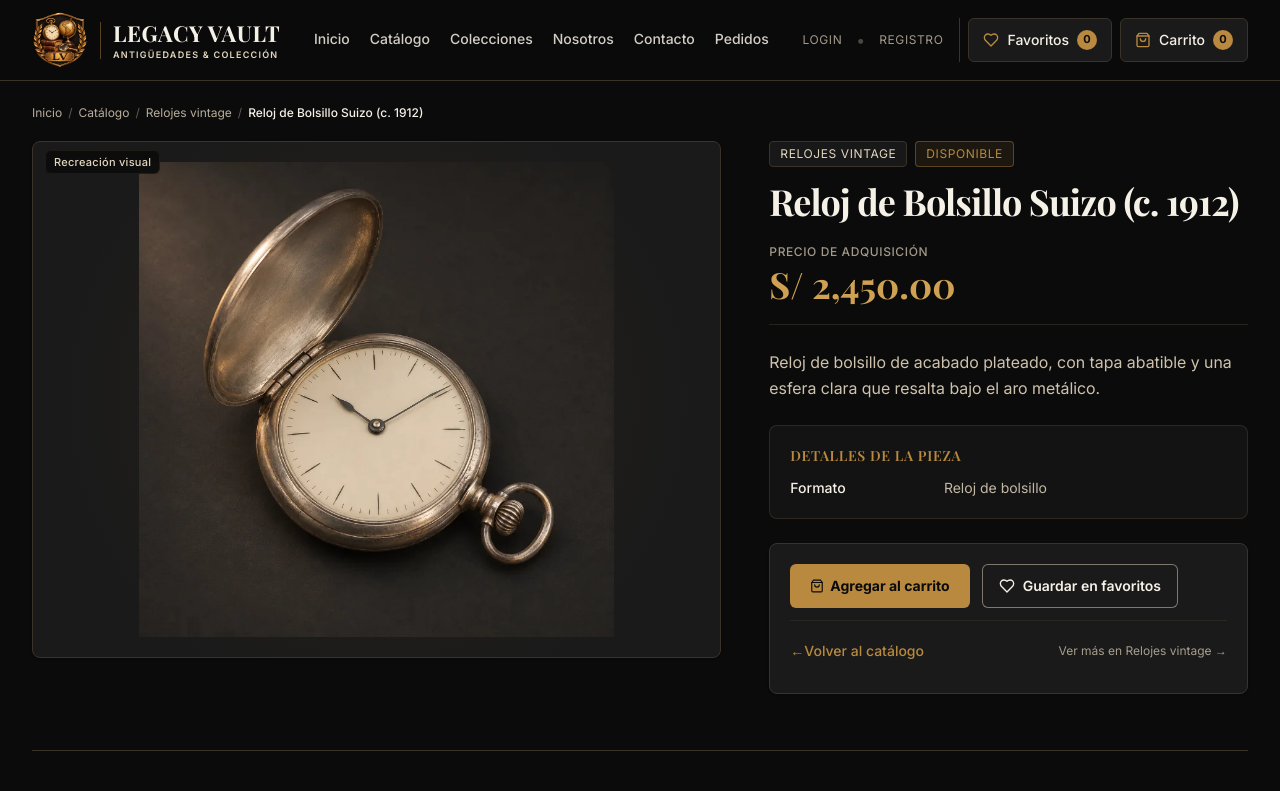
Ficha de producto (ProductPage) › presenta una pieza disponible con jerarquía visual completa, carrito, favoritos y relacionados
Expected: the heading "Reloj de Bolsillo Suizo (c. 1912)" is shown, top-left (769, 179), bottom-right (1248, 224)
Expected: the text "Relojes vintage" in the row of "Recreación visual" is shown, top-left (780, 146), bottom-right (896, 161)
What coordinates should you click on to do the following:
click the button with aria-label "Agregar al carrito: Reloj de Bolsillo Suizo"
I would click on:
 (880, 586)
Its box is top-left (790, 564), bottom-right (970, 608).
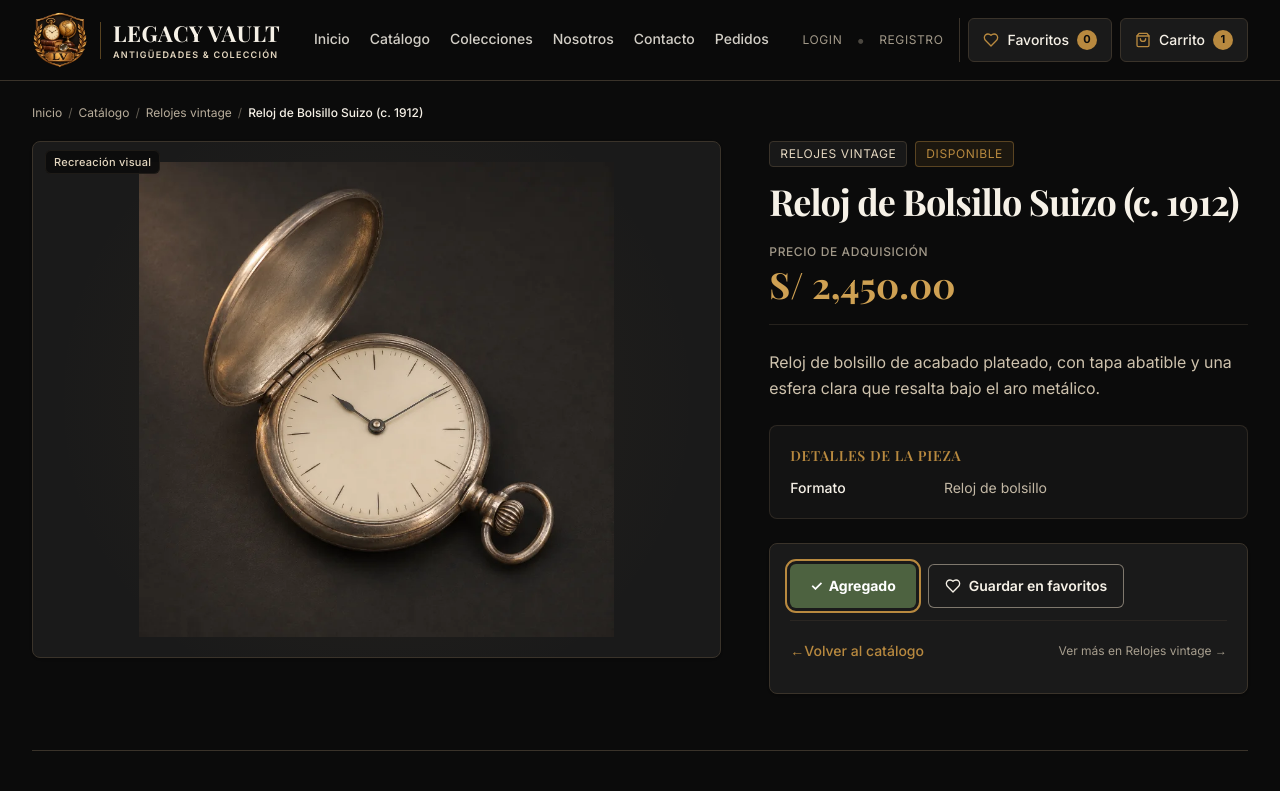
Now the button with aria-label "Agregar al carrito: Reloj de Bolsillo Suizo" shows "Agregado", box top-left (790, 564), bottom-right (916, 608)
What coordinates should you click on to do the following:
click the button with aria-label "Guardar en favoritos: Reloj de Bolsillo Suizo"
I would click on:
 (1026, 586)
Its box is top-left (928, 564), bottom-right (1124, 608).
(page scrolled)
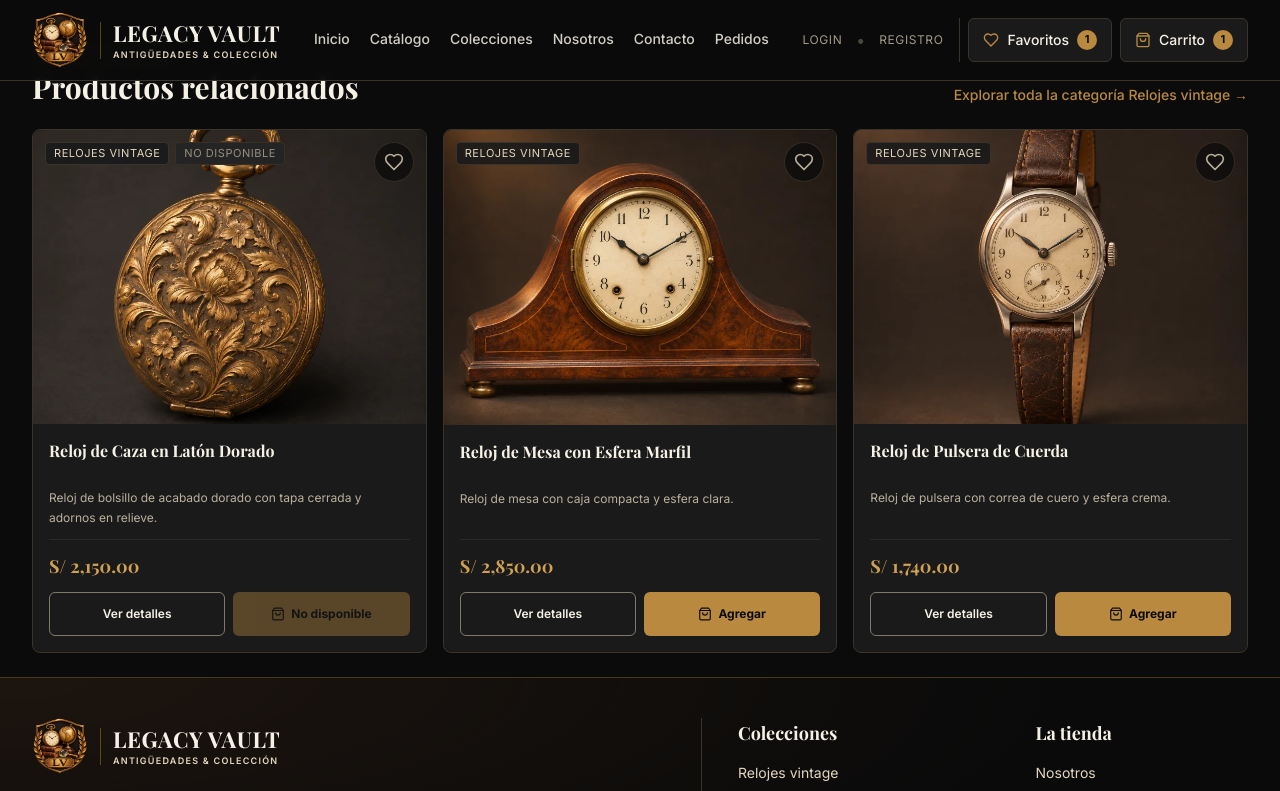
Expected: the heading "Productos relacionados" is shown, top-left (32, 69), bottom-right (359, 105)
Expected: the text "Reloj de Bolsillo Suizo (c. 1912)" is not shown
// Navegación a un producto relacionado
What coordinates should you click on to do the following:
click the link "Reloj de Caza en Latón Dorado"
I would click on:
 (162, 451)
Its box is top-left (49, 440), bottom-right (274, 462).
(page scrolled)
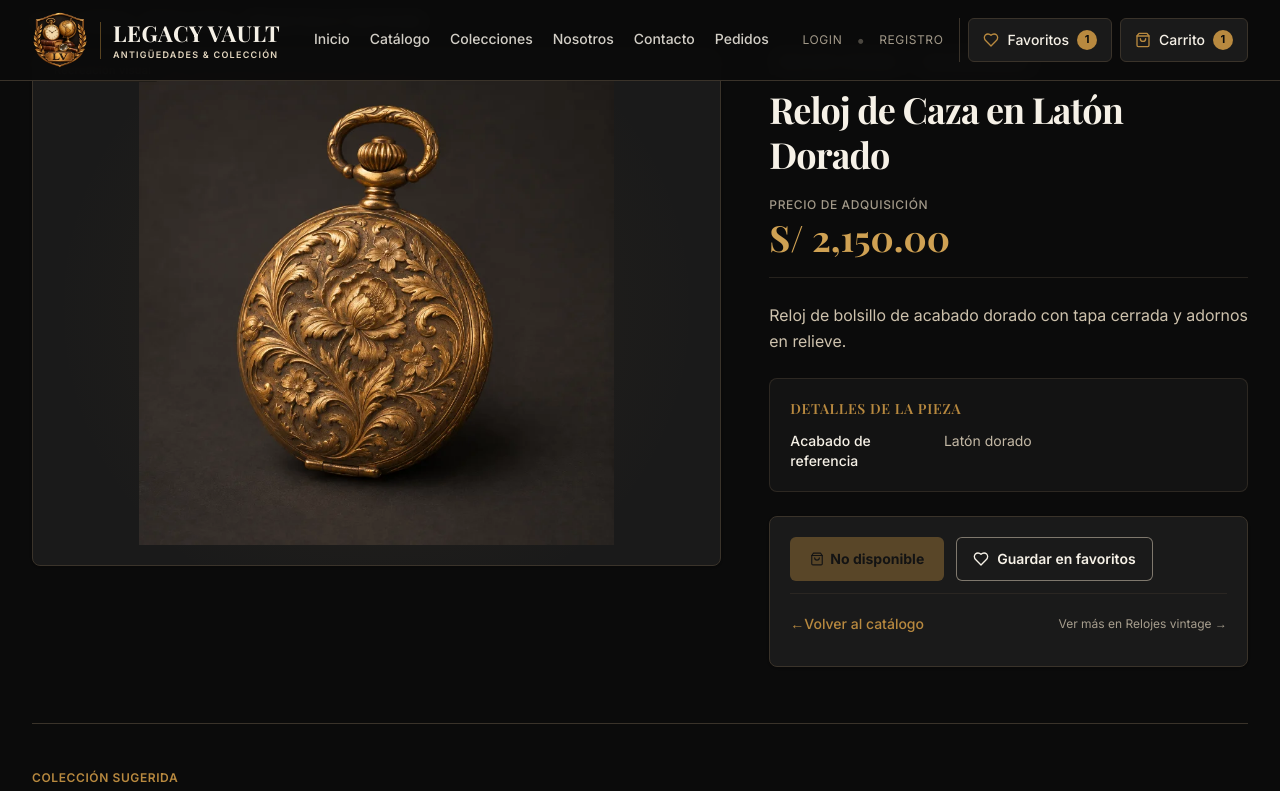
Now the heading "Reloj de Caza en Latón Dorado" is shown, box top-left (769, 85), bottom-right (1123, 178)
